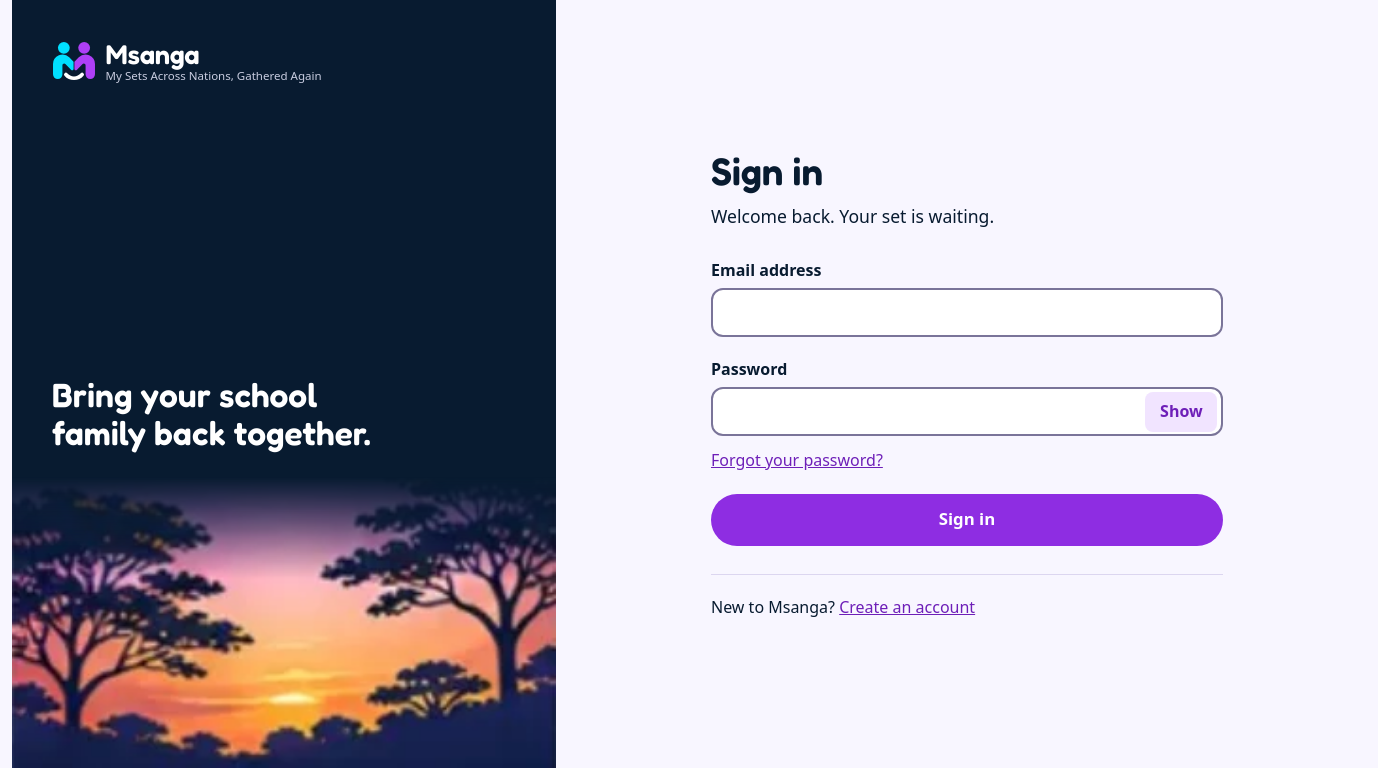
Test: Sign in (against the pretend API) › shows the API's message for a wrong password
Expected: the heading "Sign in" is shown, [711, 148, 823, 194]
Type "ada@example.com" into the field labelled "Email address". click: (967, 313)
box: [711, 288, 1223, 337]
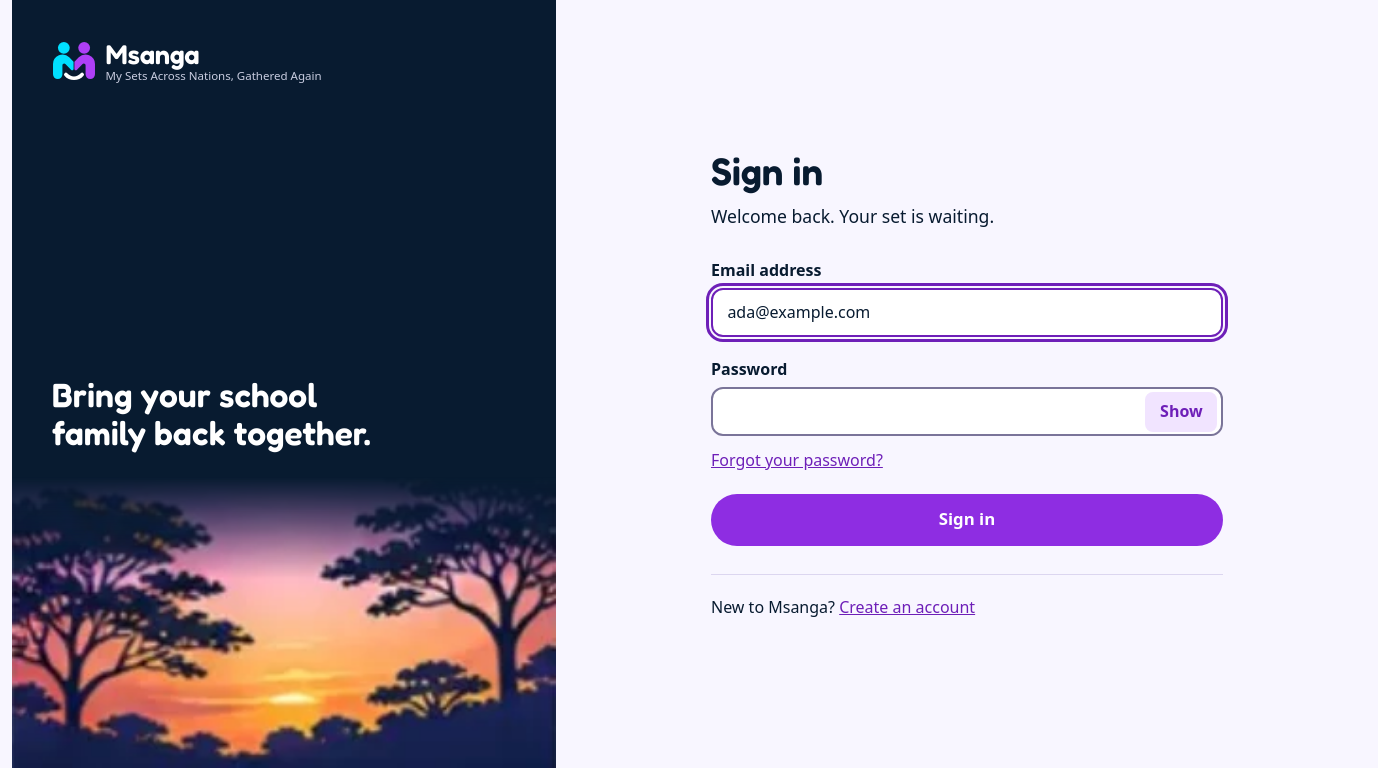
Type "not my password" into the password field labelled "Password". click: (967, 412)
box: [711, 387, 1223, 436]
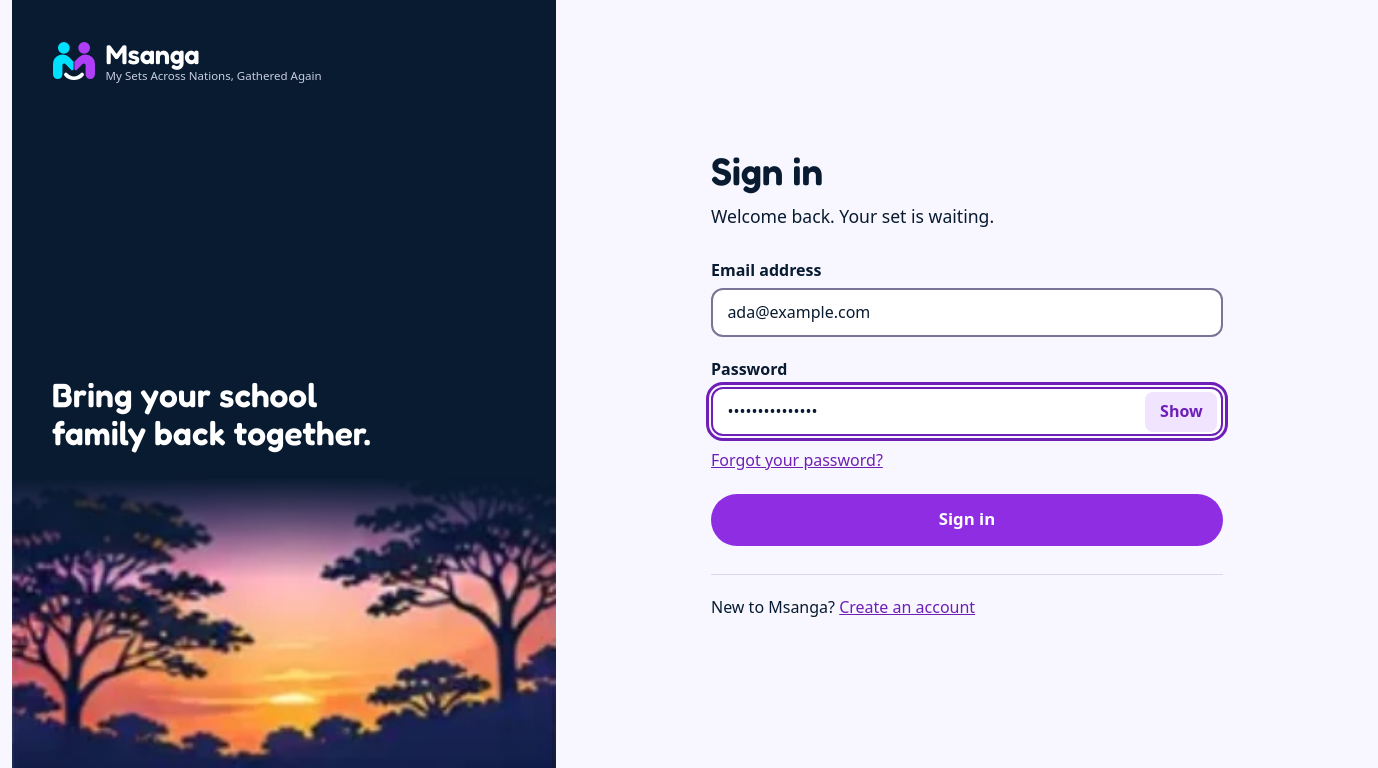
Click the button "Sign in". click: (967, 520)
box: [711, 494, 1223, 546]
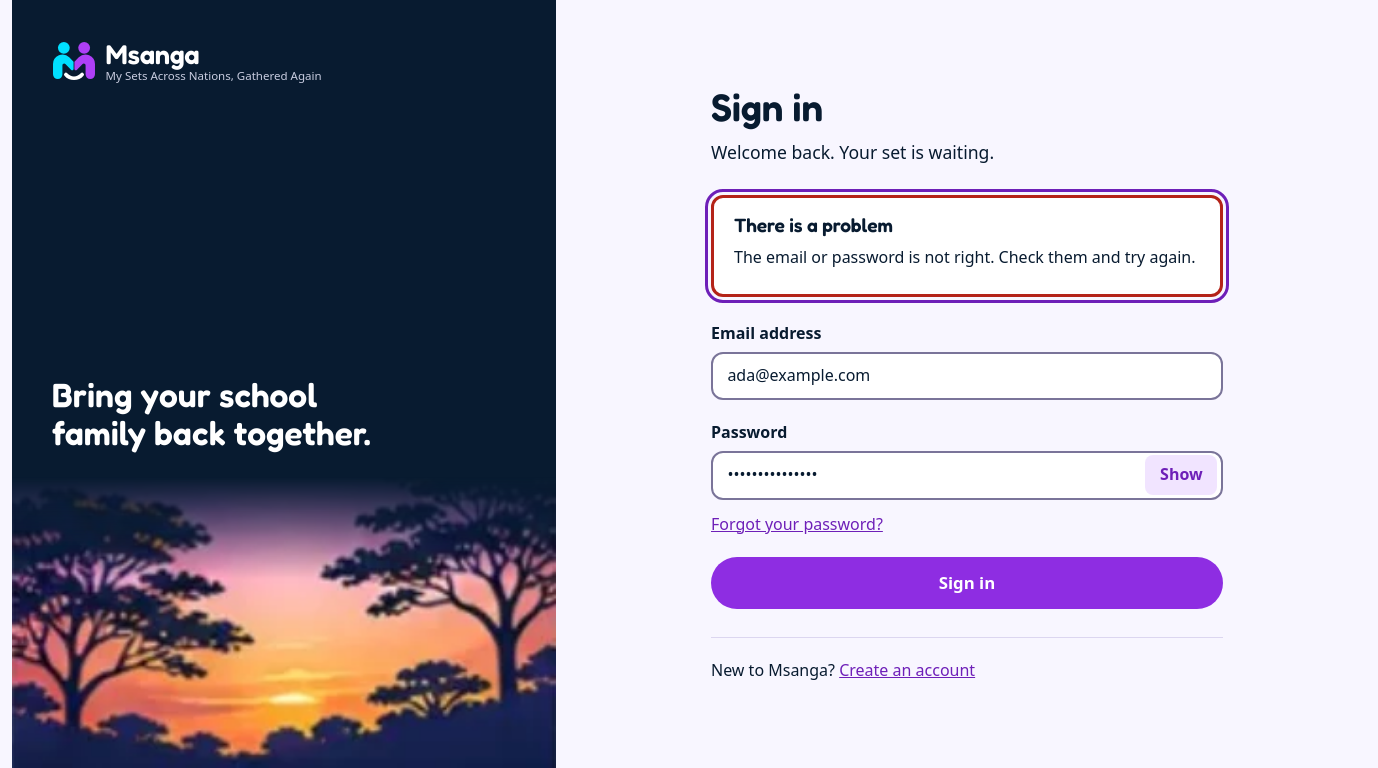
Result: the message shows "The email or password is not right" at [734, 246, 1196, 268]
